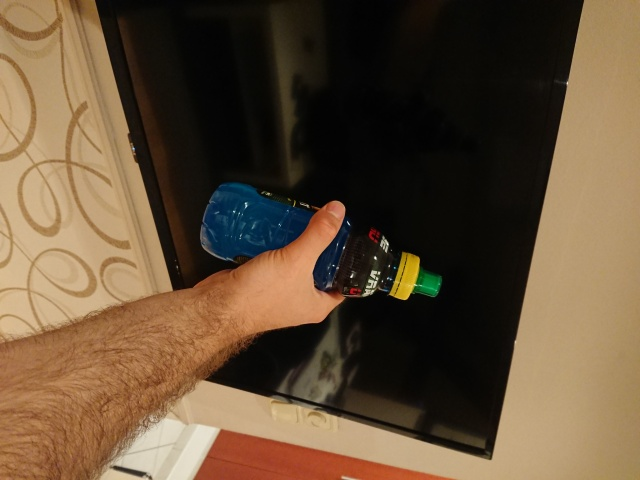Vindi Iso Sport Forest Strawberries 500mL: (197, 179, 445, 302)
